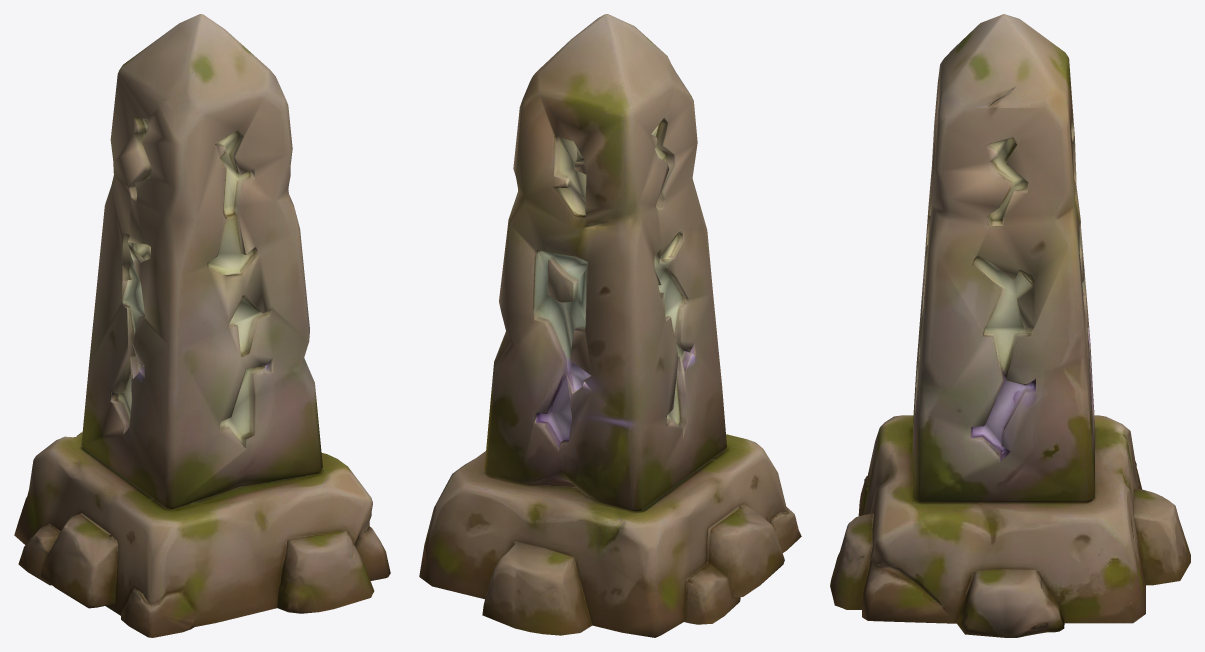
File: shield.glb
The picture shows the model from 3 angles, left to right: view 1: azimuth 30°, elevation 25°; view 2: azimuth 150°, elevation 25°; view 3: azimuth 270°, elevation 25°; orthographic projection.
Visible parts, largest first — view 1: tripo_node_85c114f0-95d9-4db8-a574-66bbf68ab45f; view 2: tripo_node_85c114f0-95d9-4db8-a574-66bbf68ab45f; view 3: tripo_node_85c114f0-95d9-4db8-a574-66bbf68ab45f.
Boxes of the visible parts, x1,y1,x2,y2 form: tripo_node_85c114f0-95d9-4db8-a574-66bbf68ab45f: (14, 14, 390, 637); tripo_node_85c114f0-95d9-4db8-a574-66bbf68ab45f: (419, 14, 801, 637); tripo_node_85c114f0-95d9-4db8-a574-66bbf68ab45f: (830, 14, 1190, 637).
Size of the model in its own units: 0.5801 by 0.998 by 0.5957.
1 material, 1 textured.
